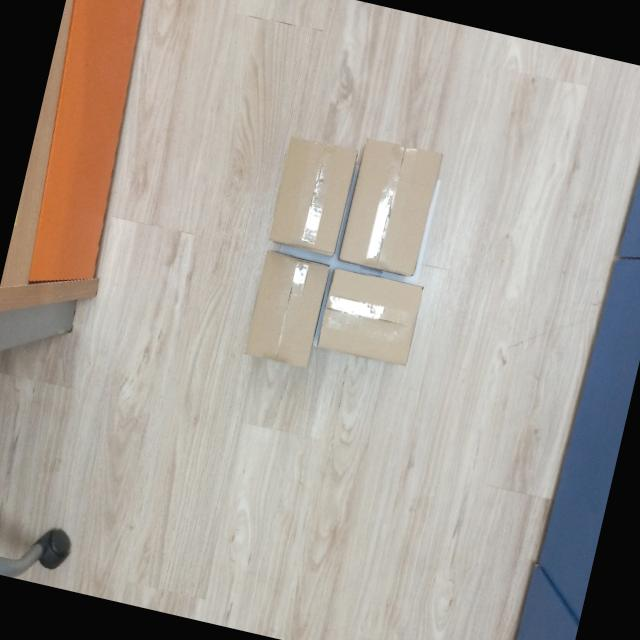box: (334, 133, 444, 280), (262, 127, 361, 261), (310, 264, 428, 371), (236, 247, 335, 374)
